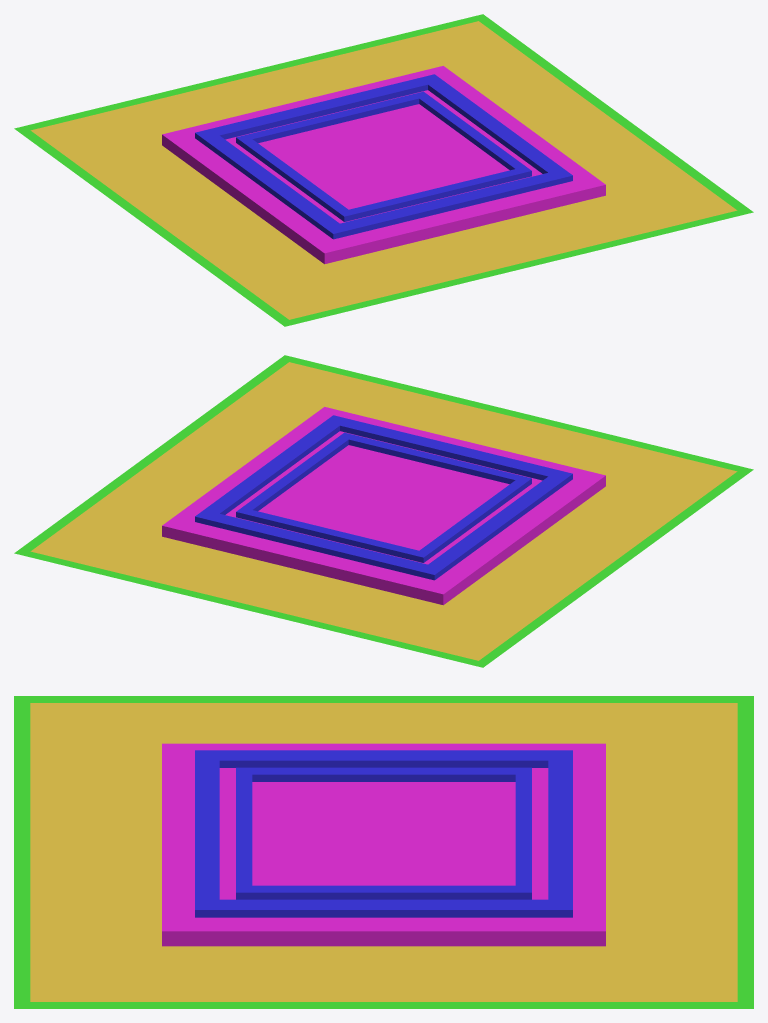
File: Floor_013_G_04.fbx
3 renders of one model, top to bottom at view 1: azimuth 30°, elevation 25°; view 2: azimuth 150°, elevation 25°; view 3: azimuth 270°, elevation 25°, orthographic. The views are drawn at different scales.
Parts seen in each view (by area): view 1: Floor_013_G_04; view 2: Floor_013_G_04; view 3: Floor_013_G_04.
Part boxes in pixels (x1,y1,x2,y2): Floor_013_G_04: (14,14,753,326); Floor_013_G_04: (14,355,753,667); Floor_013_G_04: (14,696,753,1008).
Bounding box in the file's own units: 114 × 3.81 × 114.
